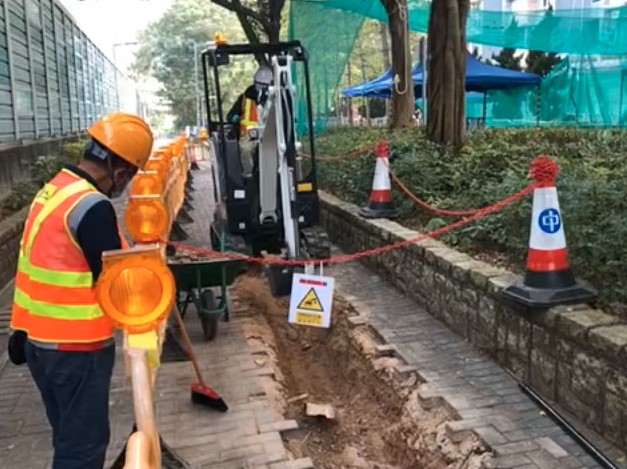Hard Hat: (83, 113, 155, 177), (253, 67, 274, 91)
Person: (11, 113, 153, 468)
Vest: (15, 157, 118, 346), (241, 86, 273, 138)
